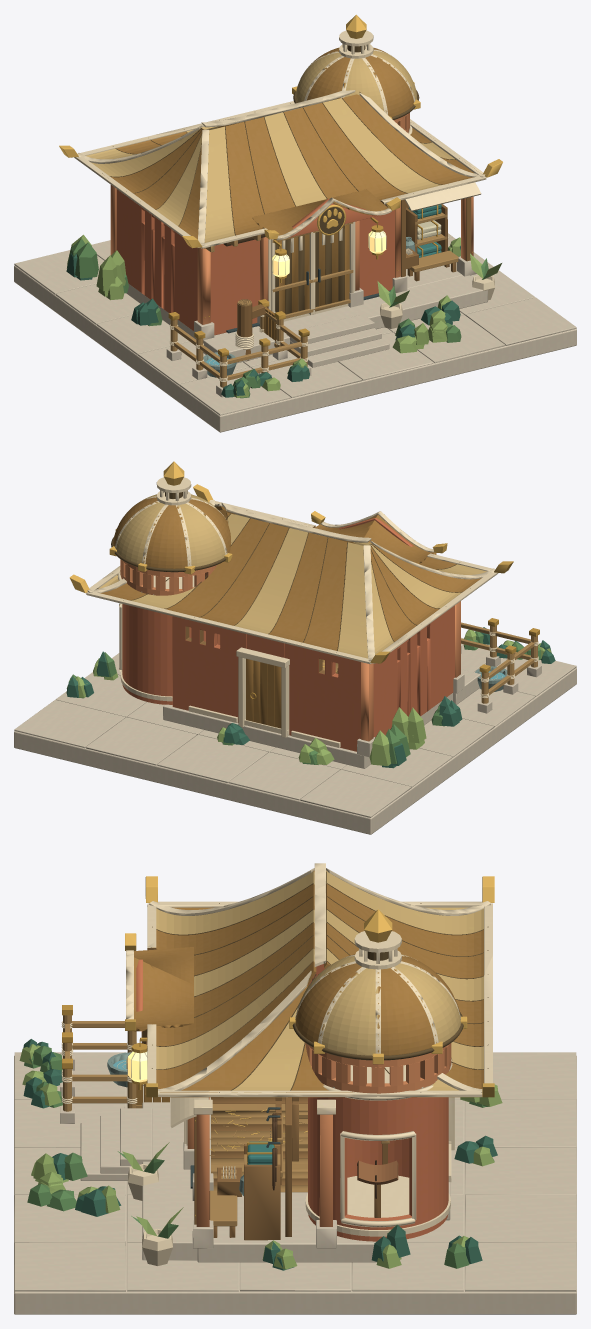
The model's file is beast-lod0-79b7cc04dfbc.glb.
3 views of the same model, one above another, from view 1: azimuth 30°, elevation 25°; view 2: azimuth 150°, elevation 25°; view 3: azimuth 270°, elevation 25° (orthographic). The views are drawn at different scales.
Visible parts, largest first — view 1: BZbatch_0.003, BZbatch_38.003, BZbatch_6.003, BZbatch_40.003, BZbatch_35.003, BZbatch_47.003, BZbatch_41.003, BZbatch_91.003, BZbatch_12.003, BZbatch_70.003, BZbatch_86.003, BZbatch_90.003 (+3 smaller); view 2: BZbatch_0.003, BZbatch_6.003, BZbatch_38.003, BZbatch_35.003, BZbatch_40.003, BZbatch_12.003, BZbatch_91.003, BZbatch_86.003, BZbatch_47.003, BZbatch_41.003, BZbatch_42.003, BZbatch_90.003; view 3: BZbatch_0.003, BZbatch_38.003, BZbatch_40.003, BZbatch_35.003, BZbatch_6.003, BZbatch_47.003, BZbatch_12.003, BZbatch_70.003, BZbatch_91.003, BZbatch_86.003, BZbatch_41.003, BZbatch_90.003 (+3 smaller).
Boxes of the visible parts, box(x1,y1,x2,y2) form: BZbatch_0.003: box(14, 233, 576, 432); BZbatch_38.003: box(111, 47, 476, 347); BZbatch_6.003: box(116, 189, 394, 335); BZbatch_40.003: box(74, 30, 494, 381); BZbatch_35.003: box(86, 50, 454, 248); BZbatch_47.003: box(170, 212, 458, 387); BZbatch_41.003: box(102, 45, 459, 314); BZbatch_91.003: box(67, 234, 501, 397); BZbatch_12.003: box(110, 112, 473, 324); BZbatch_70.003: box(237, 197, 471, 361); BZbatch_86.003: box(66, 246, 460, 397); BZbatch_90.003: box(67, 238, 490, 398); BZbatch_0.003: box(14, 637, 576, 834); BZbatch_6.003: box(122, 518, 454, 751); BZbatch_38.003: box(100, 497, 481, 728); BZbatch_35.003: box(98, 494, 486, 658); BZbatch_40.003: box(86, 477, 538, 747); BZbatch_12.003: box(120, 559, 460, 741); BZbatch_91.003: box(75, 629, 551, 765); BZbatch_86.003: box(66, 627, 555, 768); BZbatch_47.003: box(322, 622, 537, 703); BZbatch_41.003: box(111, 492, 470, 652); BZbatch_42.003: box(69, 461, 513, 671); BZbatch_90.003: box(66, 631, 541, 764); BZbatch_0.003: box(14, 1052, 576, 1314); BZbatch_38.003: box(132, 870, 483, 1105); BZbatch_40.003: box(61, 863, 492, 1265); BZbatch_35.003: box(156, 870, 483, 1097); BZbatch_6.003: box(136, 959, 448, 1241); BZbatch_47.003: box(63, 1015, 389, 1226); BZbatch_12.003: box(187, 1043, 451, 1226); BZbatch_70.003: box(141, 948, 387, 1240); BZbatch_91.003: box(19, 1044, 502, 1269); BZbatch_86.003: box(23, 1039, 497, 1270); BZbatch_41.003: box(152, 883, 488, 1092); BZbatch_90.003: box(24, 1046, 494, 1268).
Bounding box in the file's own units: 10 × 6.82 × 10.
Materials: 23 (11 with a texture image).
